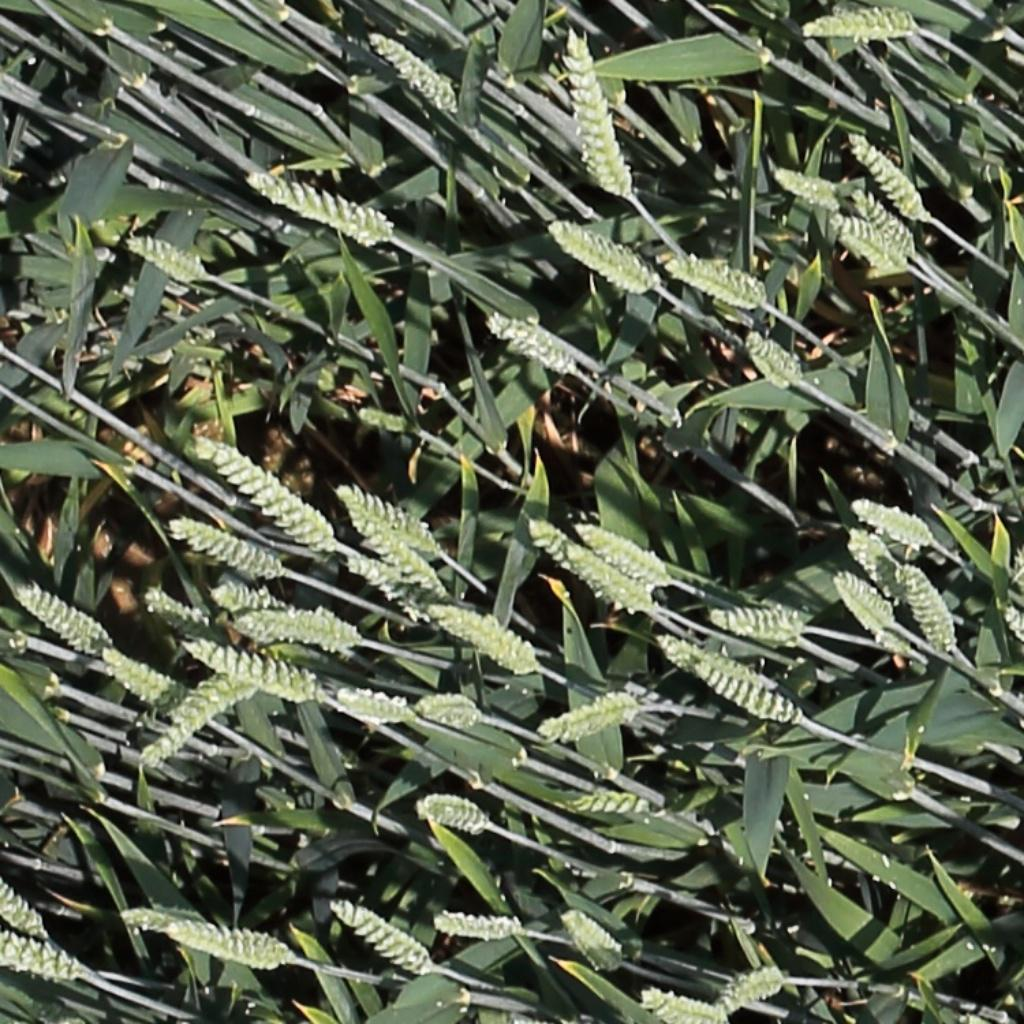0-0: (188, 432, 338, 551), (562, 28, 629, 202), (136, 671, 251, 770), (241, 172, 390, 238), (348, 512, 450, 600), (326, 899, 437, 978), (334, 479, 445, 556), (180, 641, 318, 701), (843, 125, 928, 222), (547, 221, 655, 293), (365, 30, 458, 113), (655, 634, 787, 692), (428, 606, 540, 674), (656, 248, 774, 311), (163, 919, 301, 972), (695, 667, 805, 731), (564, 540, 659, 614), (537, 680, 639, 748), (13, 587, 118, 653), (230, 605, 365, 654), (170, 517, 282, 576), (895, 562, 964, 657), (343, 555, 439, 617), (574, 522, 667, 582), (484, 312, 573, 372), (849, 184, 918, 258), (96, 649, 178, 711), (842, 522, 906, 601), (800, 5, 927, 42), (0, 932, 92, 982), (850, 497, 936, 546), (557, 909, 624, 971), (828, 213, 903, 268), (830, 567, 895, 629), (331, 680, 414, 727), (139, 589, 214, 641), (414, 791, 495, 839), (121, 233, 203, 279), (0, 873, 52, 944), (526, 518, 586, 576), (430, 905, 521, 943), (742, 331, 802, 386), (637, 989, 730, 1024), (120, 900, 211, 933), (715, 970, 783, 1014), (708, 605, 802, 636), (771, 165, 839, 207), (868, 622, 927, 669), (415, 688, 482, 727), (556, 791, 651, 818), (207, 579, 282, 613), (1003, 601, 1024, 653), (986, 432, 999, 514)
